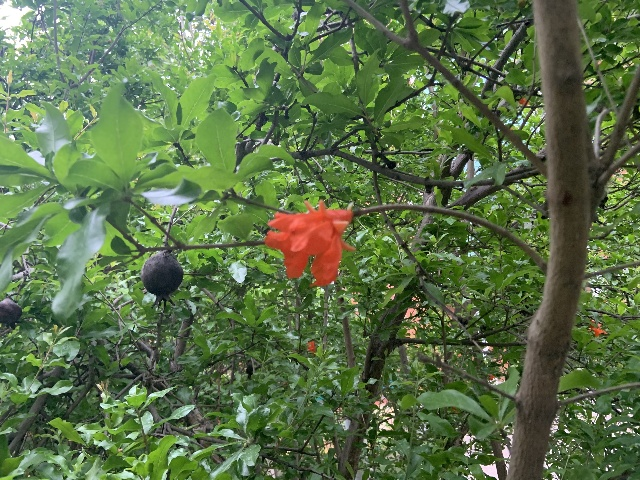flower: (264, 197, 356, 285), (587, 319, 607, 336), (306, 340, 316, 354), (519, 97, 529, 105), (488, 374, 495, 380)
